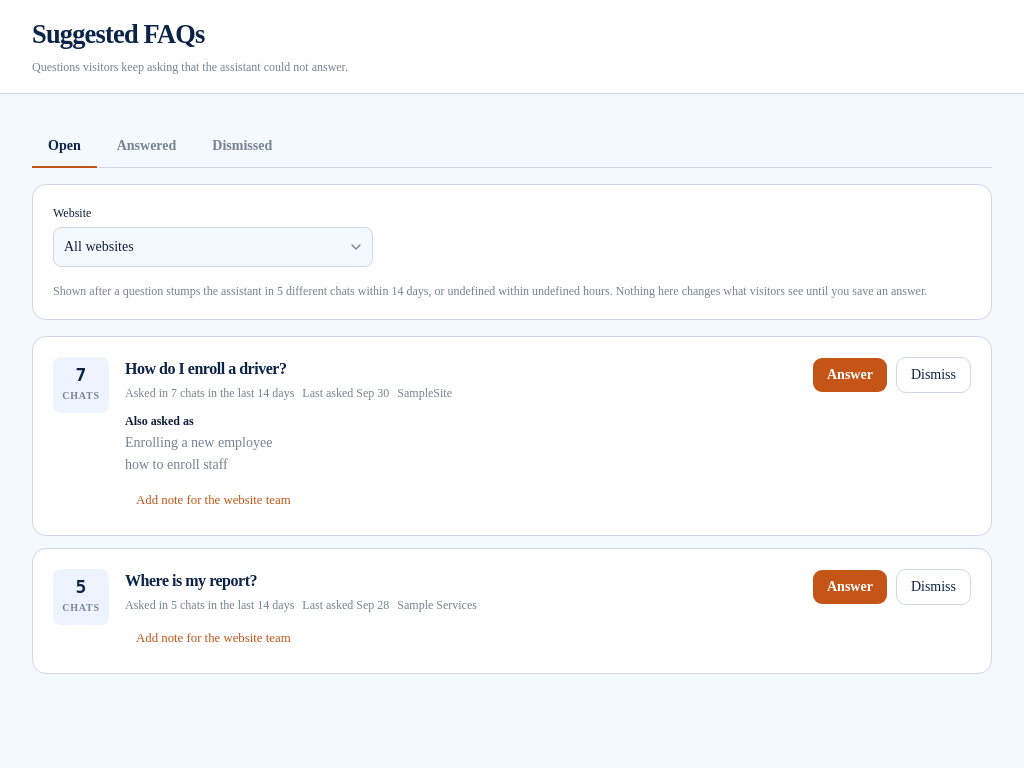
suggested FAQs answering › saves a specialist's wording as a quick reply and clears the question
Click the button "Answer" in the row of "SampleSite". click: {"x": 850, "y": 375}
box: [812,357,888,393]
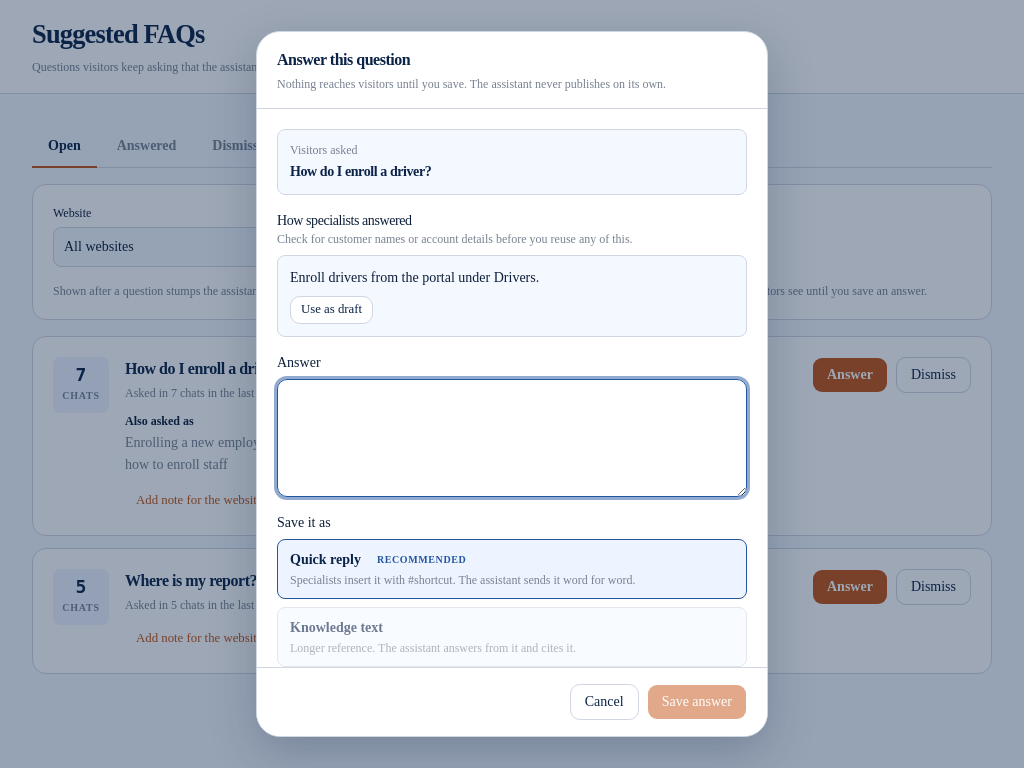
Click the button "Use as draft". click: {"x": 332, "y": 310}
box: [290,296,373,324]
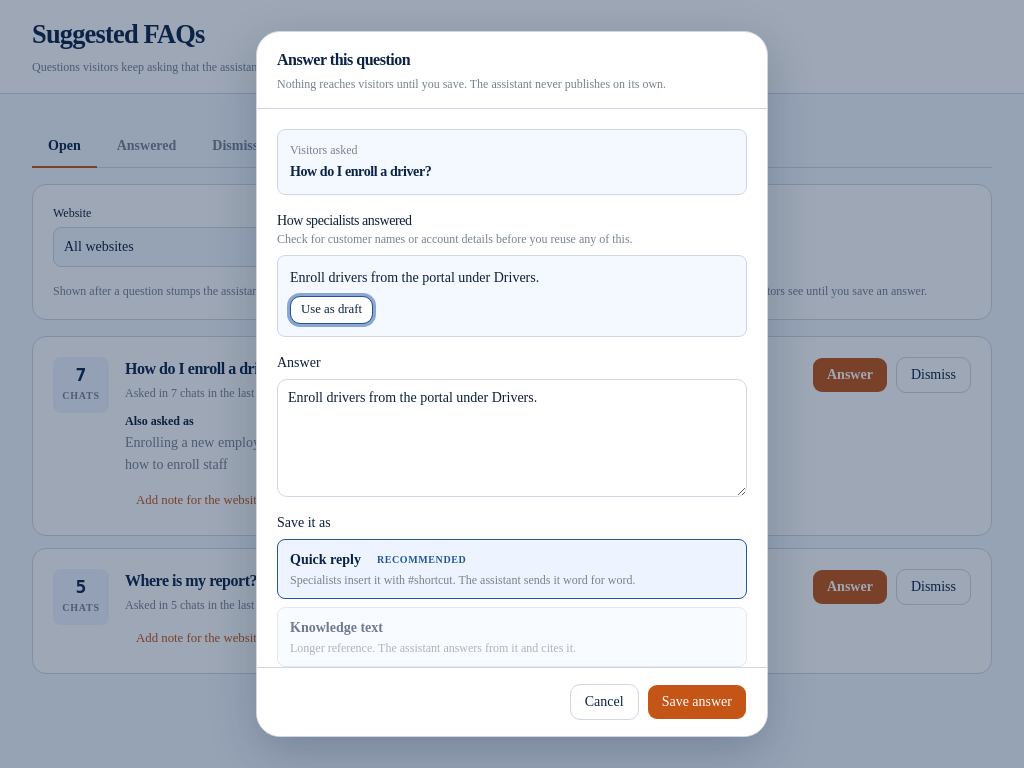
Expected: the text box labelled "Answer" holds "Enroll drivers from the portal under Drivers.", [277,379,747,497]
Click the button "Save answer". click: {"x": 697, "y": 702}
box: [647,684,747,720]
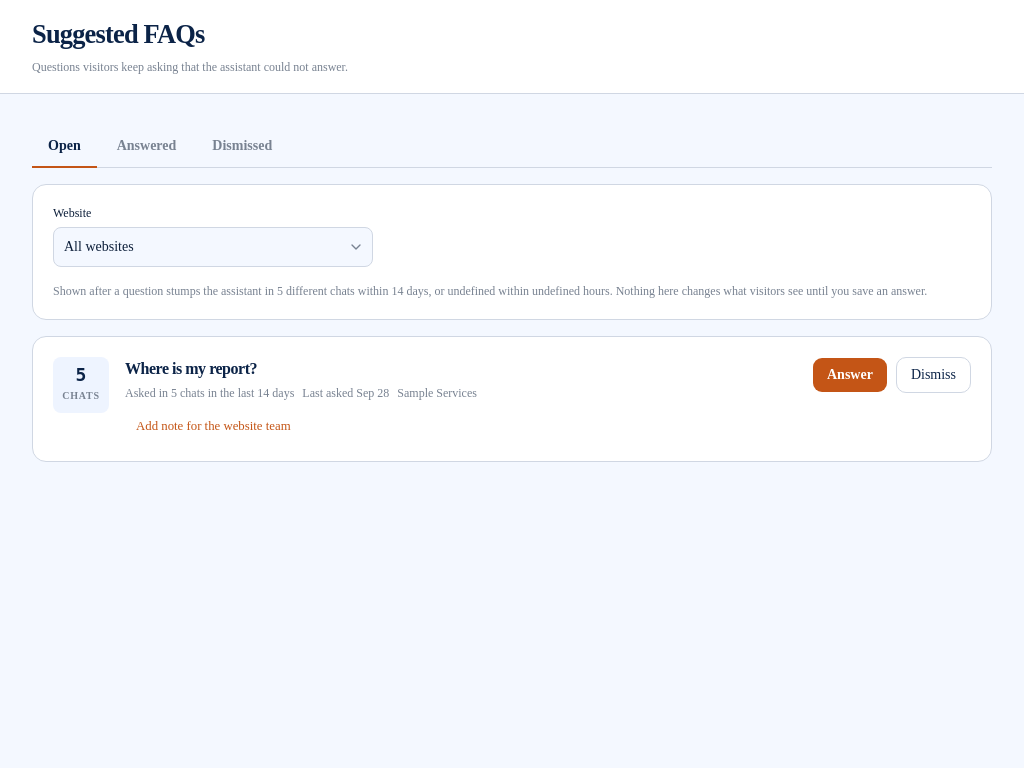
Expected: the heading "Where is my report?" is shown, [125,357,257,381]
Expected: the dialog is gone
